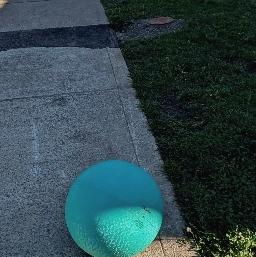algae: (63, 156, 165, 257)
